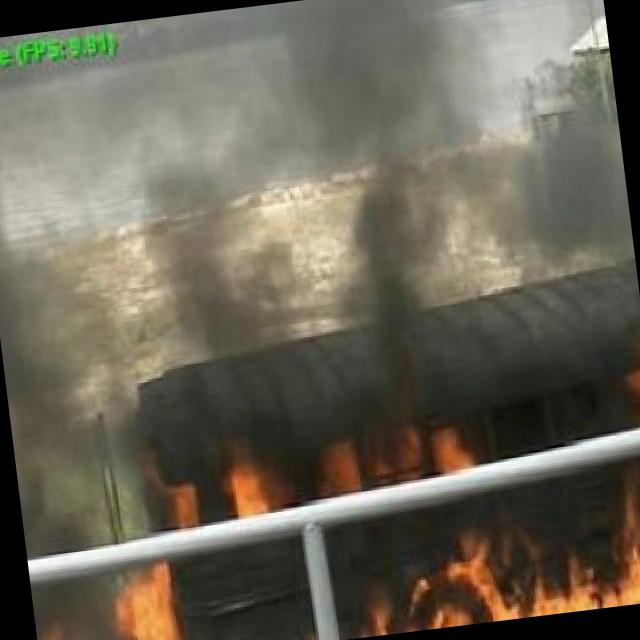Fire: (336, 497, 640, 639), (170, 431, 468, 514), (35, 578, 206, 640)
Smoke: (0, 82, 640, 396), (117, 0, 609, 137), (8, 387, 168, 548)
